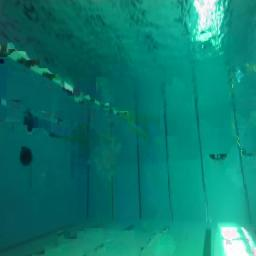Full: (209, 152, 228, 158)
